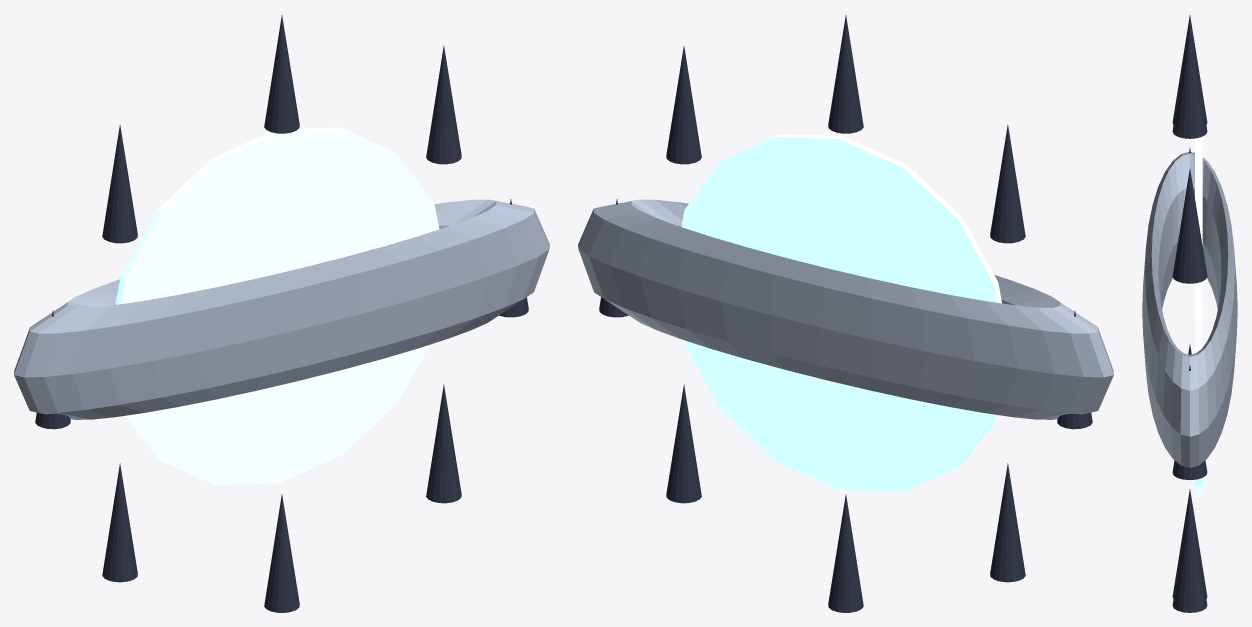
Rendered from prismatic-portal-lod1.glb.
3 views of the same model, side by side, from view 1: azimuth 30°, elevation 25°; view 2: azimuth 150°, elevation 25°; view 3: azimuth 270°, elevation 25° (orthographic). The views are drawn at different scales.
Parts seen in each view (by area): view 1: PortalRing, PortalCore, RuneSpire.1, RuneSpire.3, RuneSpire.2, RuneSpire.6, RuneSpire.5, RuneSpire.7; view 2: PortalRing, PortalCore, RuneSpire.1, RuneSpire.3, RuneSpire.2, RuneSpire.6, RuneSpire.5, RuneSpire.7; view 3: PortalRing, RuneSpire.1, RuneSpire.2, RuneSpire.7, PortalCore, RuneSpire.0, RuneSpire.3, RuneSpire.6.
Part boxes in pixels (x1=…): PortalRing: x1=14, y1=199, x2=549, y2=419; PortalCore: x1=115, y1=127, x2=439, y2=485; RuneSpire.1: x1=426, y1=45, x2=461, y2=164; RuneSpire.3: x1=102, y1=124, x2=137, y2=243; RuneSpire.2: x1=264, y1=15, x2=299, y2=133; RuneSpire.6: x1=264, y1=494, x2=299, y2=612; RuneSpire.5: x1=102, y1=463, x2=137, y2=582; RuneSpire.7: x1=426, y1=384, x2=461, y2=503; PortalRing: x1=578, y1=199, x2=1113, y2=419; PortalCore: x1=681, y1=134, x2=1001, y2=491; RuneSpire.1: x1=666, y1=45, x2=701, y2=164; RuneSpire.3: x1=990, y1=124, x2=1025, y2=243; RuneSpire.2: x1=828, y1=15, x2=863, y2=133; RuneSpire.6: x1=828, y1=494, x2=863, y2=612; RuneSpire.5: x1=990, y1=463, x2=1025, y2=582; RuneSpire.7: x1=666, y1=384, x2=701, y2=503; PortalRing: x1=1142, y1=152, x2=1237, y2=467; RuneSpire.1: x1=1172, y1=169, x2=1207, y2=283; RuneSpire.2: x1=1172, y1=24, x2=1207, y2=138; RuneSpire.7: x1=1172, y1=498, x2=1207, y2=612; PortalCore: x1=1195, y1=136, x2=1202, y2=497; RuneSpire.0: x1=1172, y1=365, x2=1207, y2=479; RuneSpire.3: x1=1172, y1=15, x2=1207, y2=124; RuneSpire.6: x1=1172, y1=489, x2=1207, y2=598.
Bounding box in the file's own units: 5.5 × 5.8 × 0.875.
